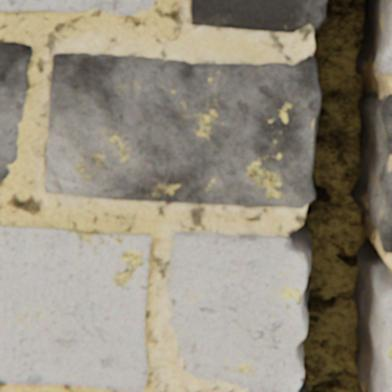brick: (0, 225, 151, 390), (0, 42, 33, 183), (0, 0, 155, 15)
broken_brick: (47, 53, 320, 207), (167, 231, 306, 391), (192, 0, 326, 32), (376, 94, 391, 251), (375, 279, 391, 391), (379, 0, 391, 73)
crack: (286, 0, 391, 391)
